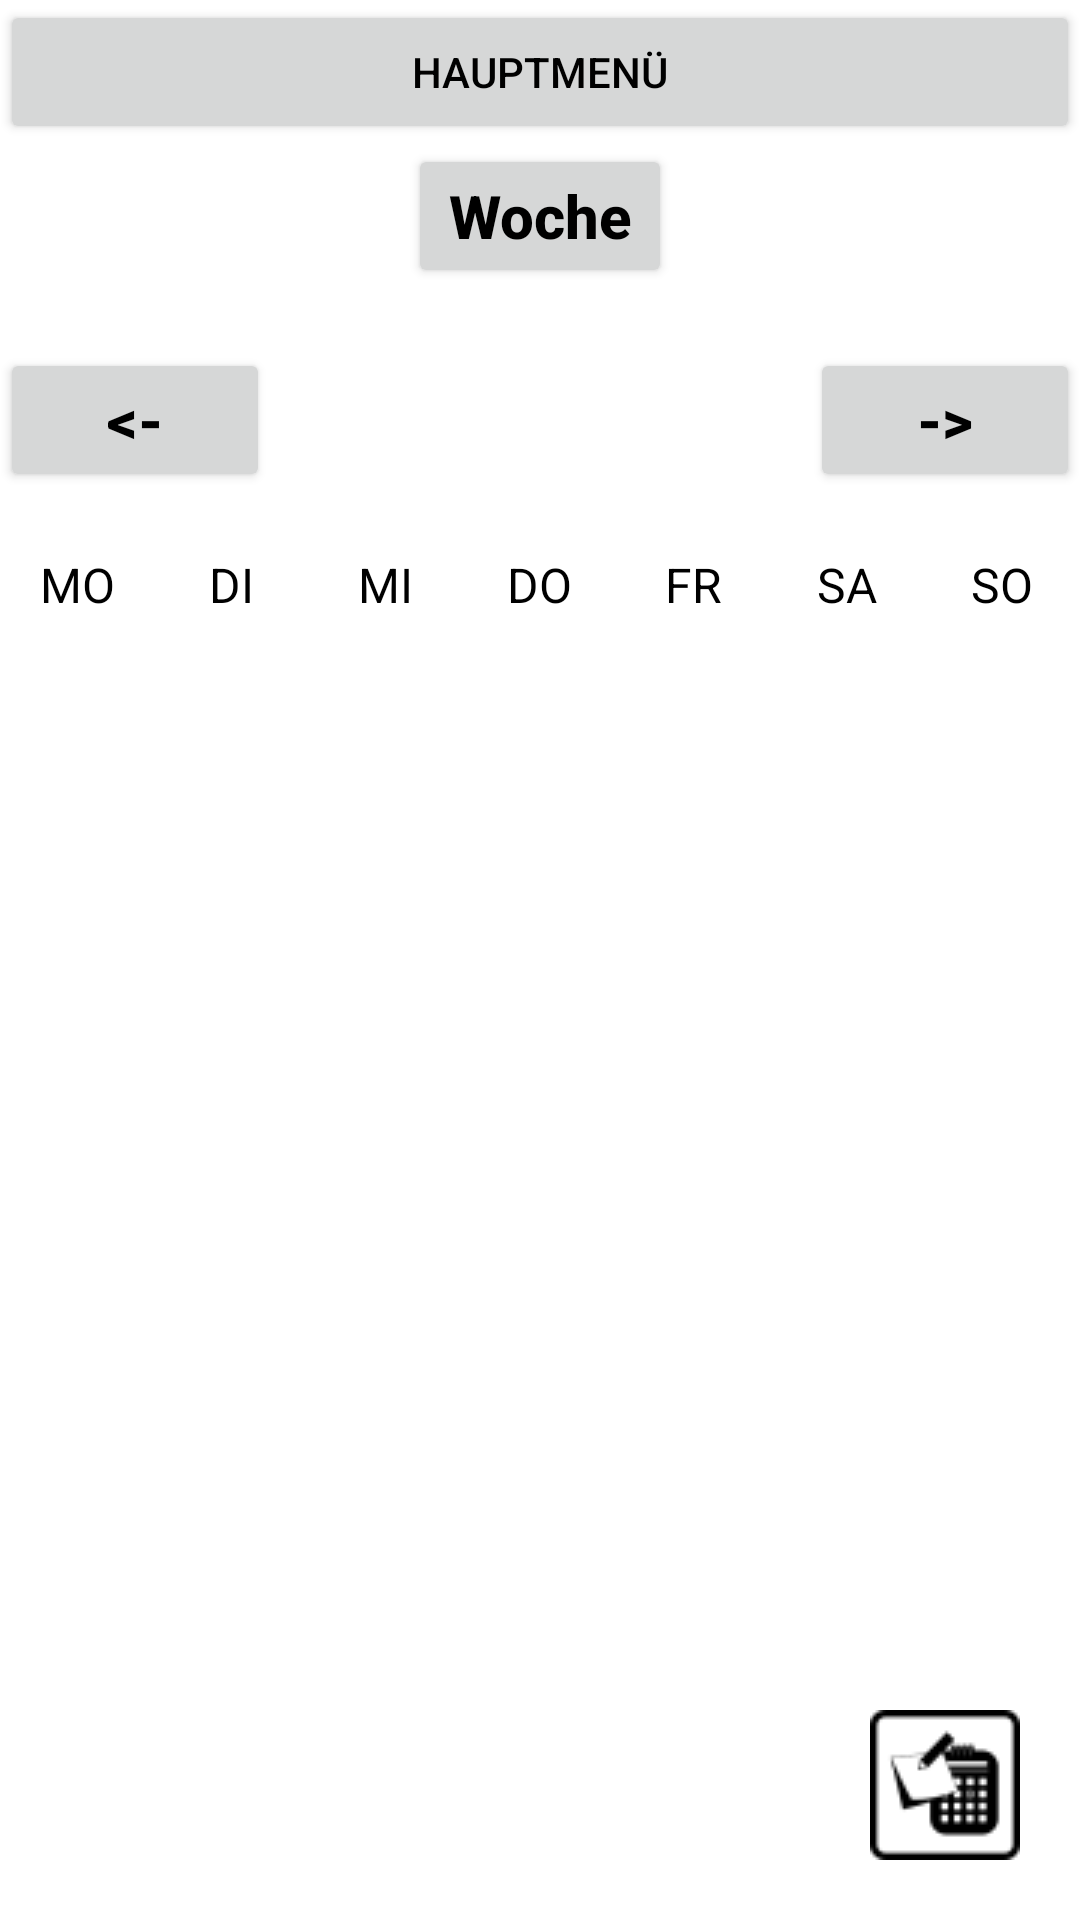

Icon click points for this 1080px x 1920px phone screenshot, format point (x, y):
calendar symbol: point (945, 1785)
